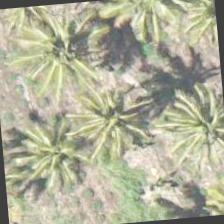Kelapa_Sawit: (61, 61, 159, 159), (4, 106, 102, 204), (20, 5, 119, 102), (157, 77, 223, 174)
